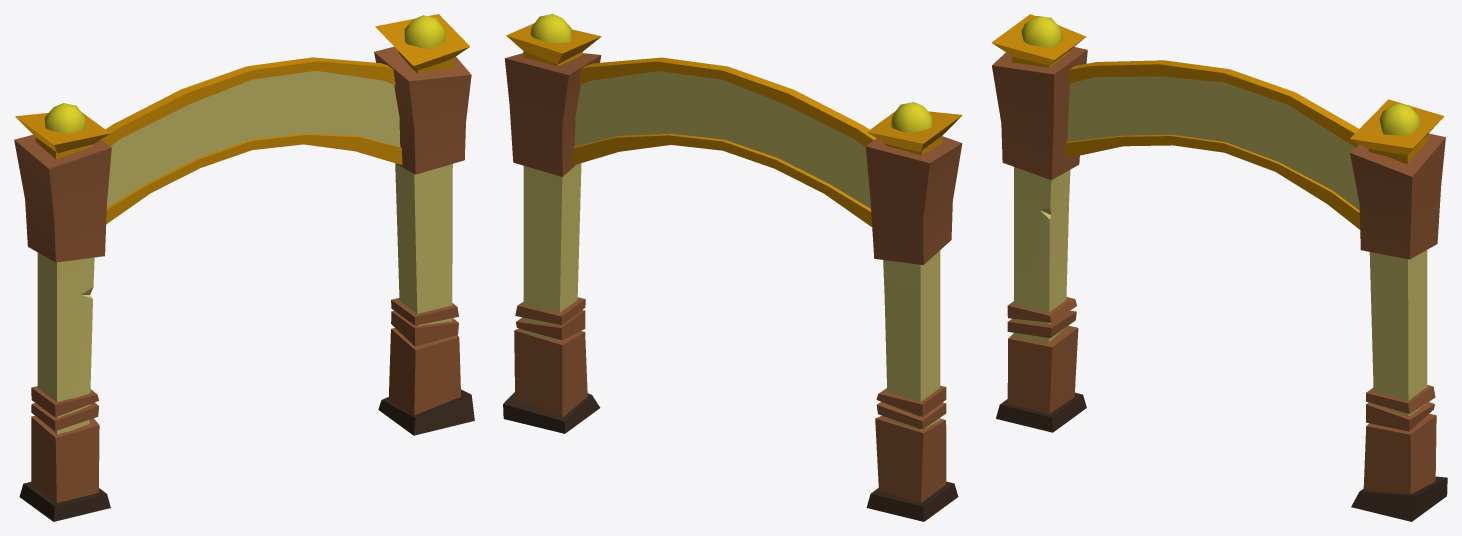
The model's file is Popbloop_gate.FBX.
3 renders of one model, left to right at view 1: azimuth 30°, elevation 25°; view 2: azimuth 150°, elevation 25°; view 3: azimuth 330°, elevation 25°, orthographic.
Visible parts, largest first — view 1: Gate; view 2: Gate; view 3: Gate.
Boxes of the visible parts, x1,y1,x2,y2 form: Gate: (14, 14, 474, 521); Gate: (503, 14, 962, 521); Gate: (991, 14, 1447, 521).
Size of the model in its own units: 202 by 181 by 32.37.
